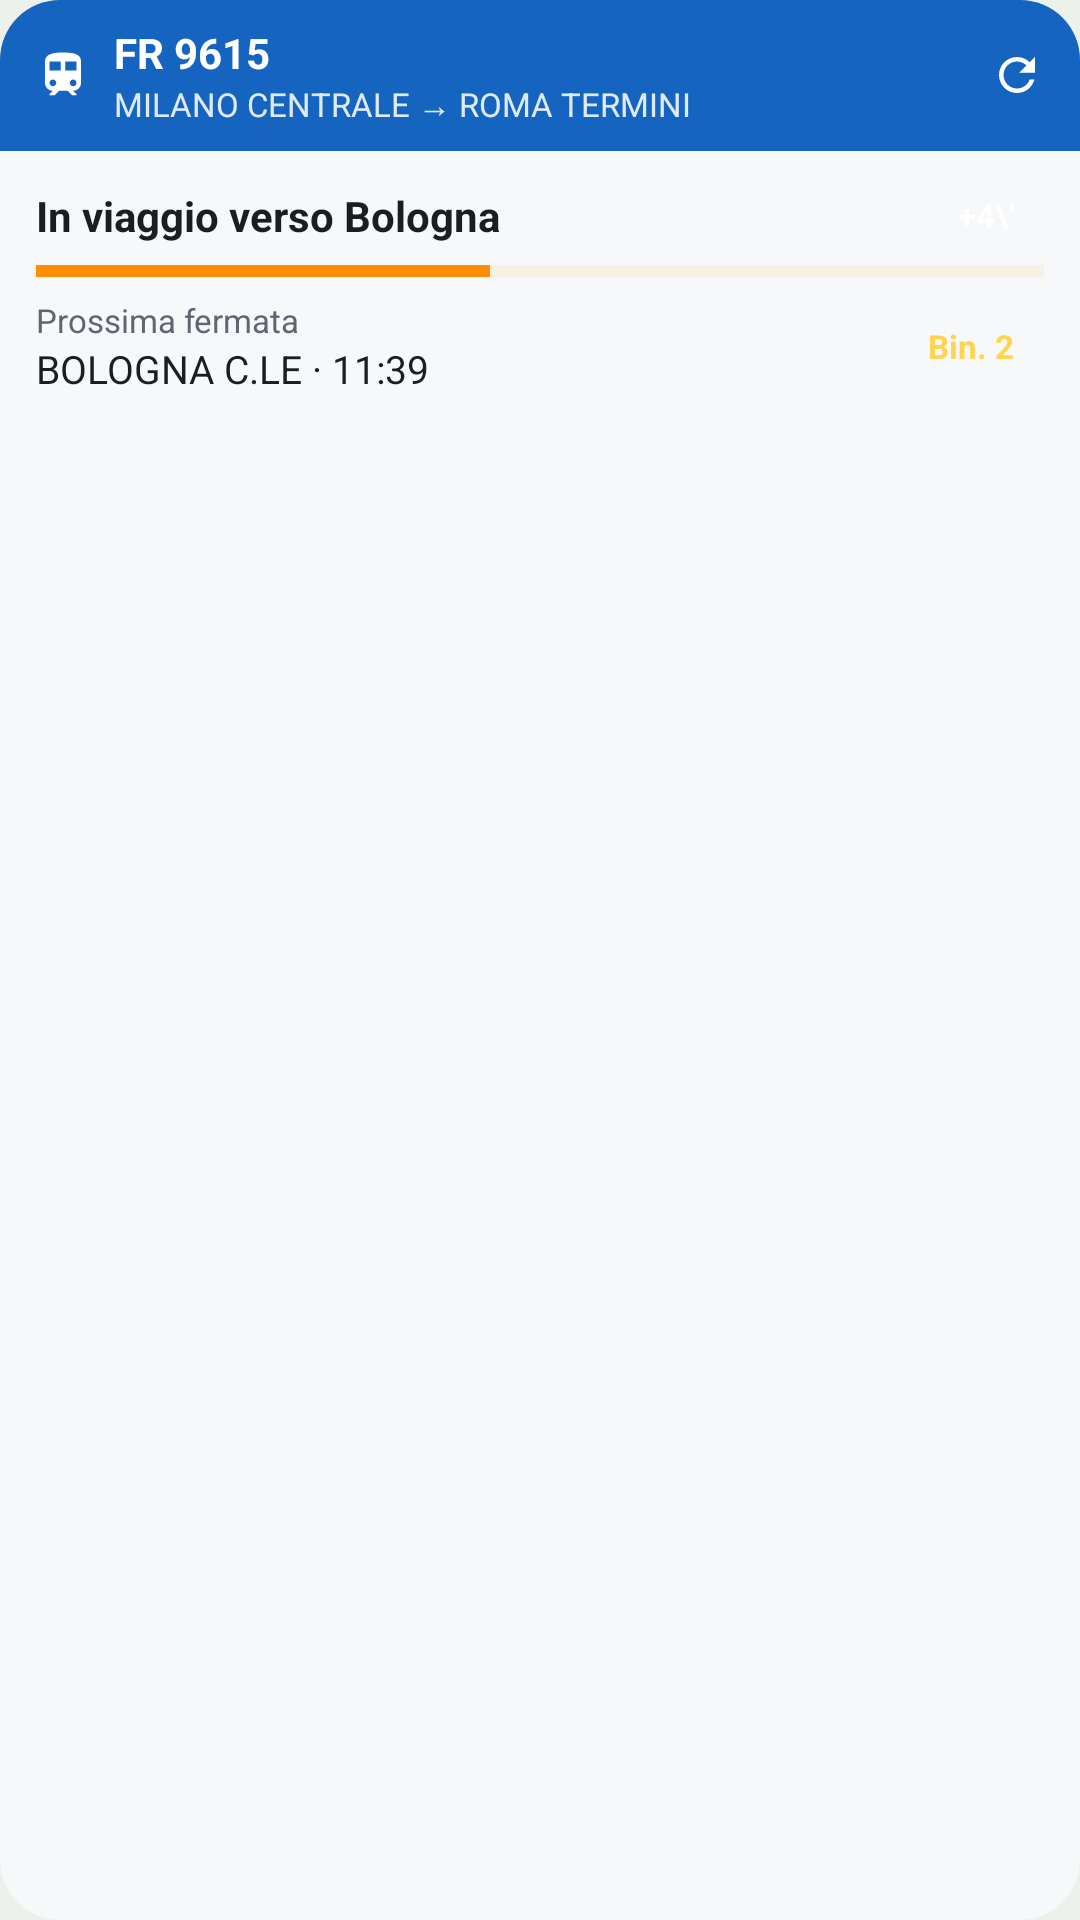

Screen size 1080*1920. Icon name, then its center in pixels as (x=x, y=y):
train: (x=63, y=74)
widget refresh: (x=1017, y=75)
